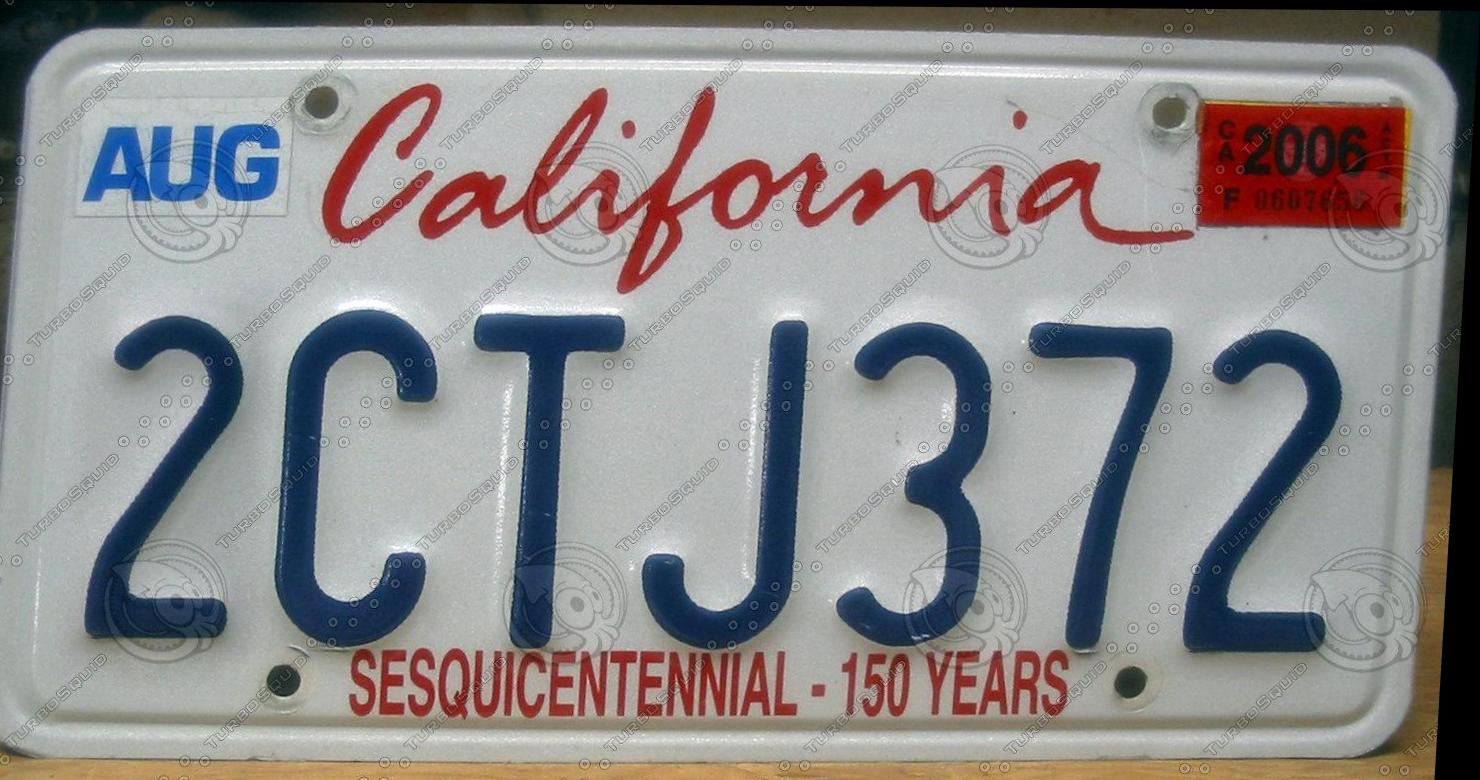License_Plate: (0, 32, 1452, 753)
